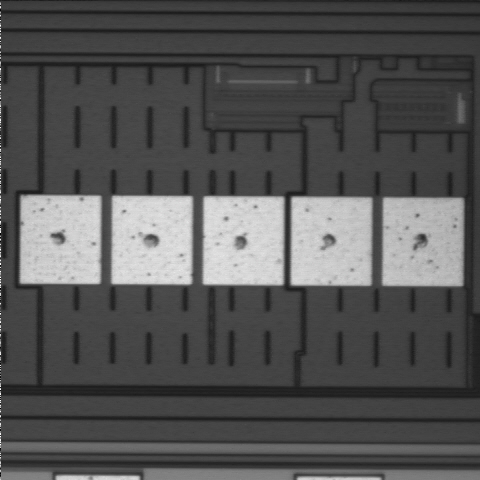pad: (203, 197, 284, 285), (21, 196, 101, 284), (112, 196, 192, 284), (291, 198, 371, 285), (383, 198, 462, 286)
